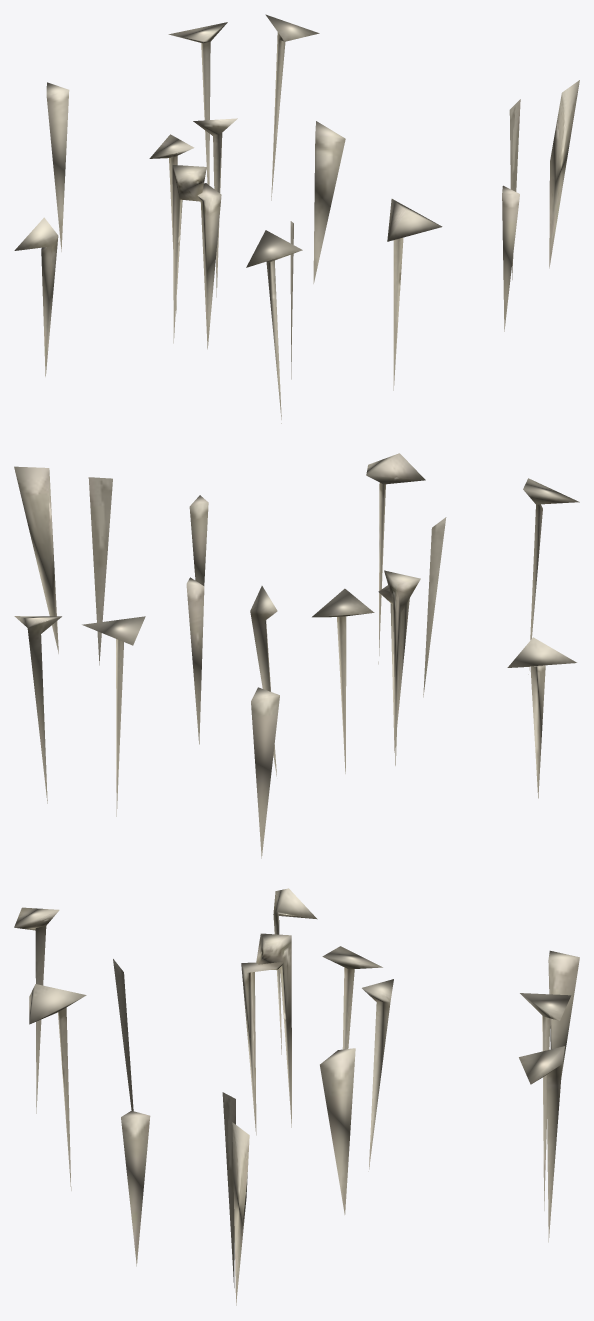
File: mushgrass_f_far.glb
3 renders of one model, top to bottom at view 1: azimuth 30°, elevation 25°; view 2: azimuth 150°, elevation 25°; view 3: azimuth 270°, elevation 25°, orthographic. The views are drawn at different scales.
Visible parts, largest first — view 1: mushgrass; view 2: mushgrass; view 3: mushgrass.
Boxes of the visible parts, bbox=[...] form: mushgrass: bbox=[14, 14, 579, 423]; mushgrass: bbox=[14, 453, 579, 858]; mushgrass: bbox=[14, 888, 579, 1305].
Bounding box in the file's own units: 0.1918 × 0.0654 × 0.1568.
1 material, 1 textured.
